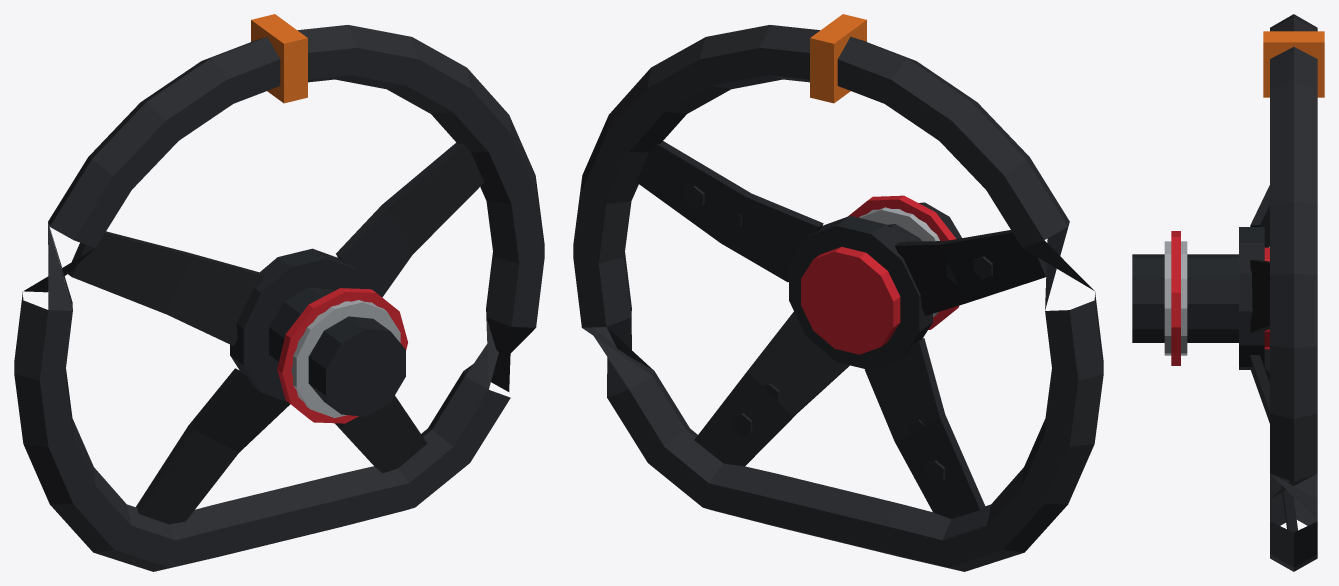
Rendered from apex_v8.glb.
The picture shows the model from 3 angles, left to right: view 1: azimuth 30°, elevation 25°; view 2: azimuth 150°, elevation 25°; view 3: azimuth 270°, elevation 25°; orthographic projection. The views are drawn at different scales.
Visible parts, largest first — view 1: model; view 2: model; view 3: model.
Part boxes in pixels (x1,y1,x2,y2): model: (14, 14, 544, 571); model: (573, 14, 1103, 571); model: (1132, 14, 1324, 571).
Size of the model in its own units: 0.354 by 0.3272 by 0.119.
4 materials, 1 textured.
